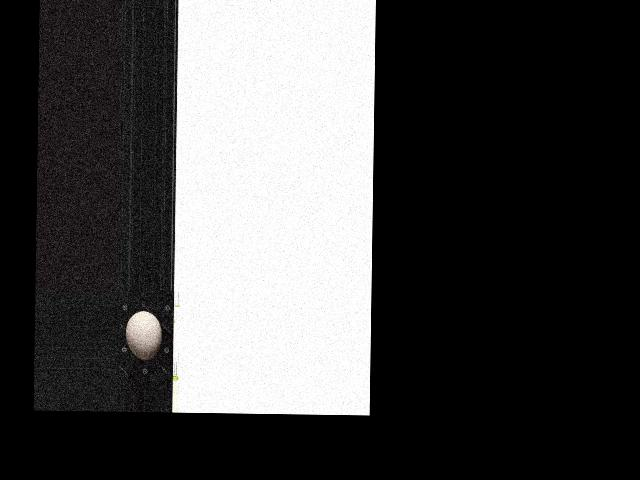egg: (125, 310, 162, 360)
